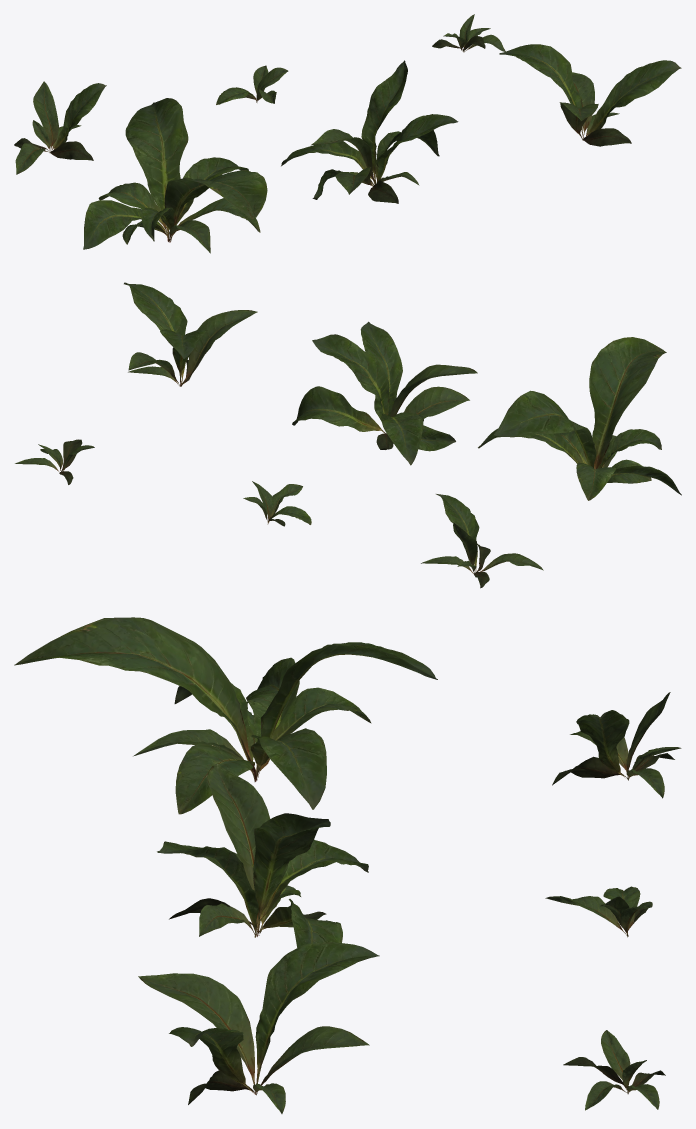
The model's file is anthurium_botany_01.glb.
3 views of the same model, one above another, from view 1: azimuth 30°, elevation 25°; view 2: azimuth 150°, elevation 25°; view 3: azimuth 270°, elevation 25° (orthographic). The views are drawn at different scales.
Visible parts, largest first — view 1: anthurium_botany_01_a, anthurium_botany_01_b, anthurium_botany_01_c, anthurium_botany_04_d, anthurium_botany_05_e, anthurium_botany_06_f; view 2: anthurium_botany_01_a, anthurium_botany_01_b, anthurium_botany_01_c, anthurium_botany_04_d, anthurium_botany_05_e, anthurium_botany_06_f; view 3: anthurium_botany_01_a, anthurium_botany_01_b, anthurium_botany_01_c, anthurium_botany_04_d, anthurium_botany_06_f, anthurium_botany_05_e.
Boxes of the visible parts, bbox=[...] form: anthurium_botany_01_a: bbox=[83, 98, 267, 253]; anthurium_botany_01_b: bbox=[281, 60, 458, 203]; anthurium_botany_01_c: bbox=[499, 44, 681, 146]; anthurium_botany_04_d: bbox=[14, 81, 106, 174]; anthurium_botany_05_e: bbox=[216, 65, 288, 104]; anthurium_botany_06_f: bbox=[432, 14, 505, 52]; anthurium_botany_01_a: bbox=[478, 337, 681, 500]; anthurium_botany_01_b: bbox=[292, 321, 477, 465]; anthurium_botany_01_c: bbox=[124, 282, 257, 386]; anthurium_botany_04_d: bbox=[421, 494, 543, 588]; anthurium_botany_05_e: bbox=[243, 481, 311, 526]; anthurium_botany_06_f: bbox=[15, 439, 94, 484]; anthurium_botany_01_a: bbox=[14, 617, 437, 814]; anthurium_botany_01_b: bbox=[157, 763, 368, 947]; anthurium_botany_01_c: bbox=[138, 942, 379, 1113]; anthurium_botany_04_d: bbox=[552, 692, 681, 798]; anthurium_botany_06_f: bbox=[563, 1030, 665, 1110]; anthurium_botany_05_e: bbox=[545, 886, 652, 937].
Size of the model in its own units: 2.8 by 0.4981 by 1.8.
1 material, 1 textured.
